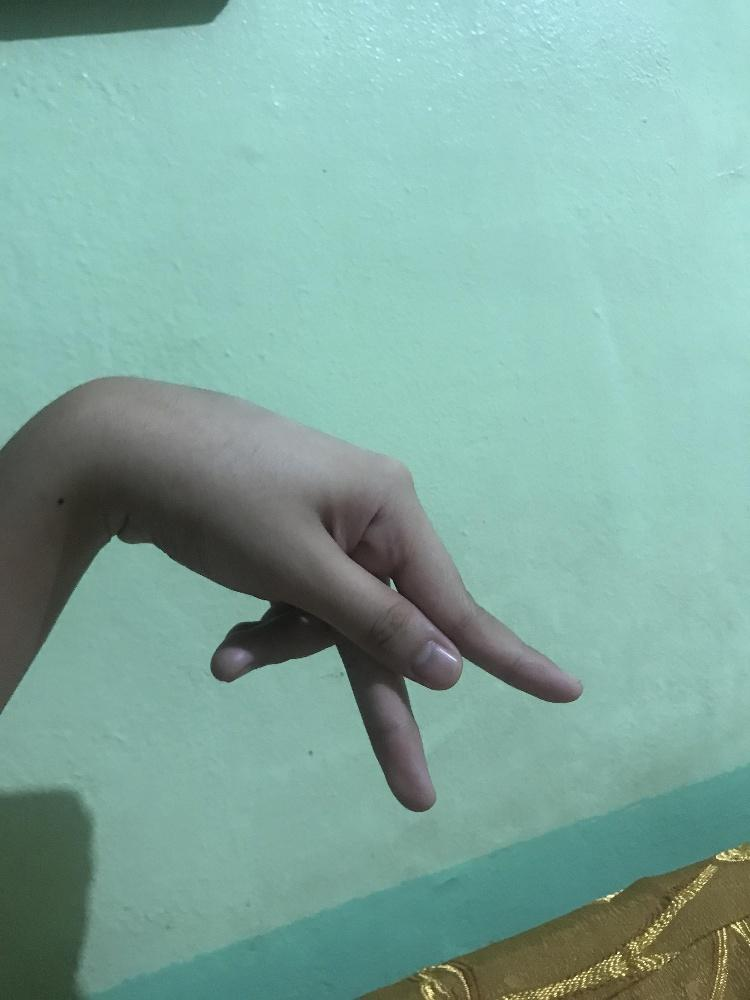p: (105, 371, 587, 818)
